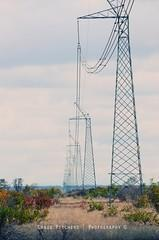power_tower: (76, 0, 159, 203)
